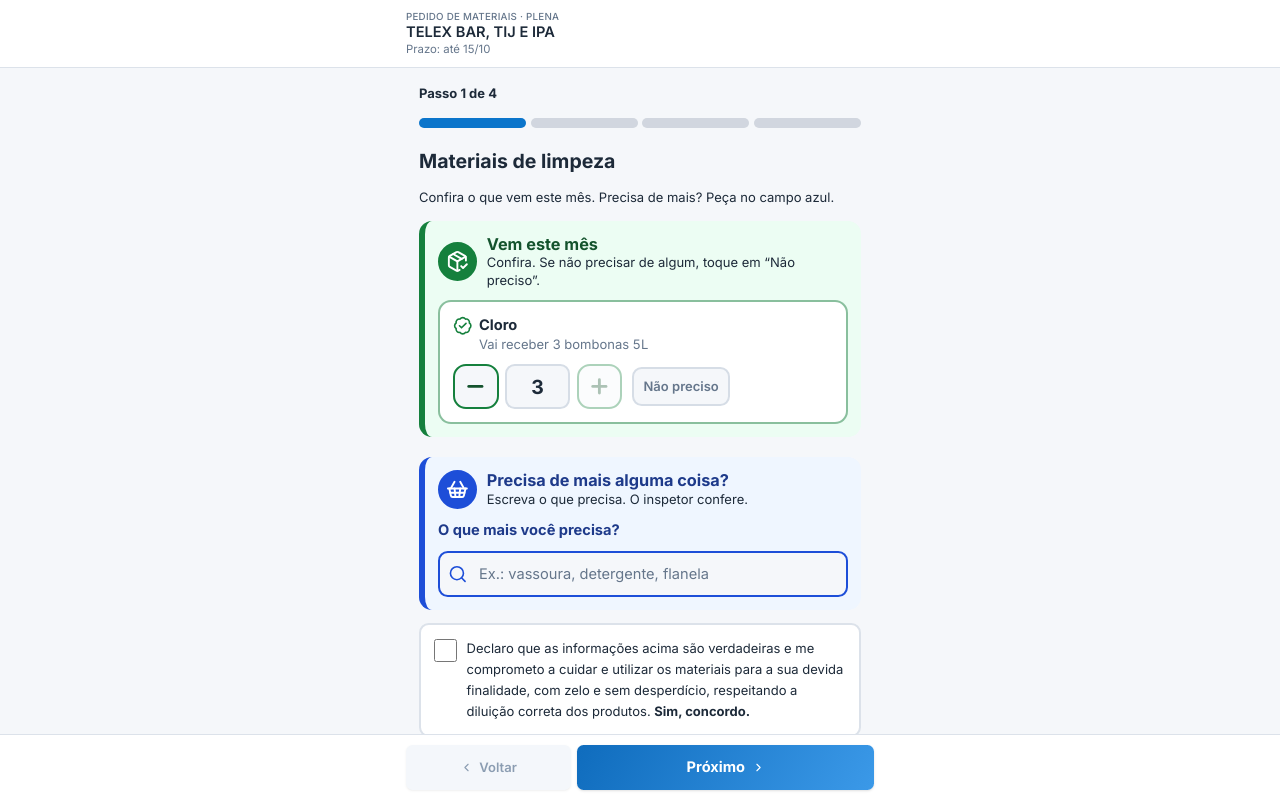
PedidoLiderPage (tela pública do líder) › kit do mês: o + não passa do kit e "Não preciso este mês" zera sem pedir motivo
Check: the heading "Vem este mês" is shown, box left=487, top=234, right=598, bottom=254
Check: the button named "Aumentar Cloro" is disabled, box left=576, top=364, right=622, bottom=410
Click the button named "Diminuir Cloro". click: click(476, 387)
box: left=453, top=364, right=498, bottom=410
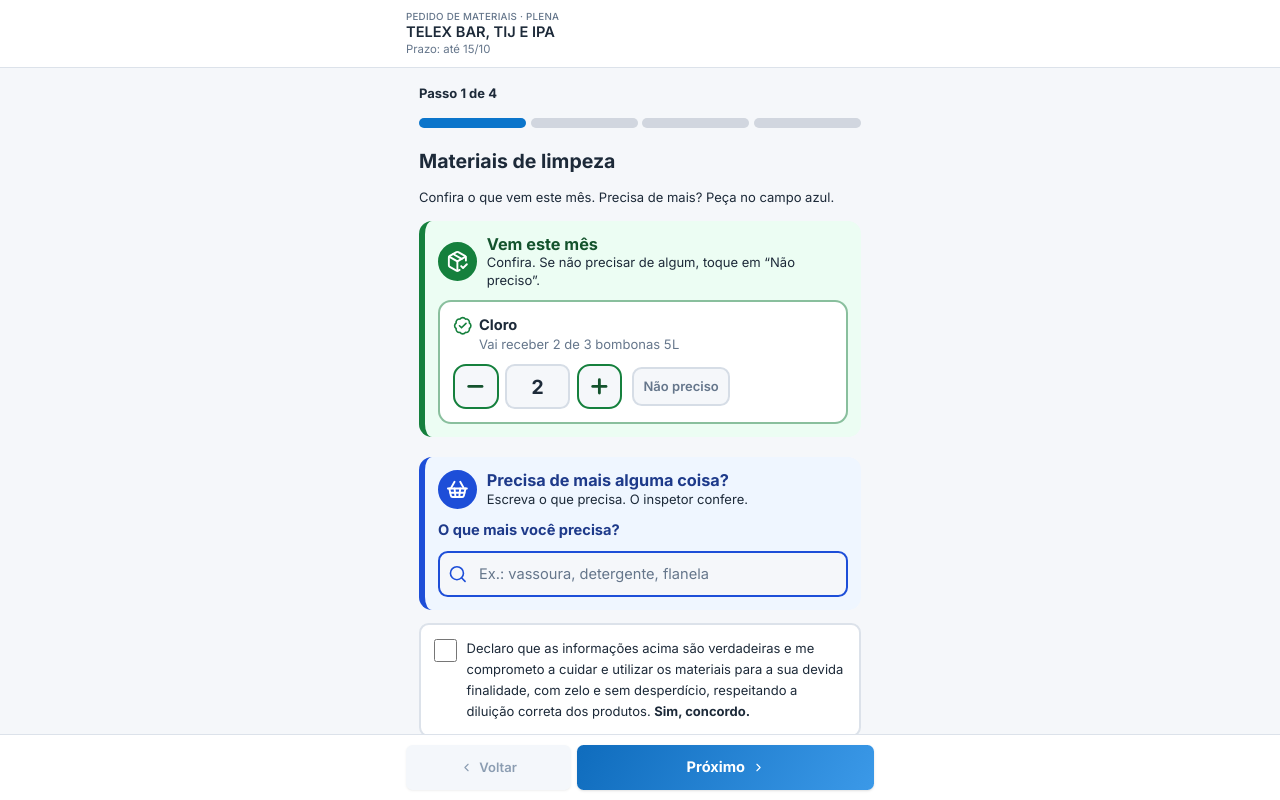
Check: the field named "Quantidade de Cloro" holds "2", box left=505, top=364, right=570, bottom=410
Check: the text "Vai receber 2 de 3 bombonas 5L" is shown, box left=479, top=335, right=679, bottom=354
Click the button "Não preciso". click: click(681, 387)
box: left=632, top=367, right=730, bottom=406
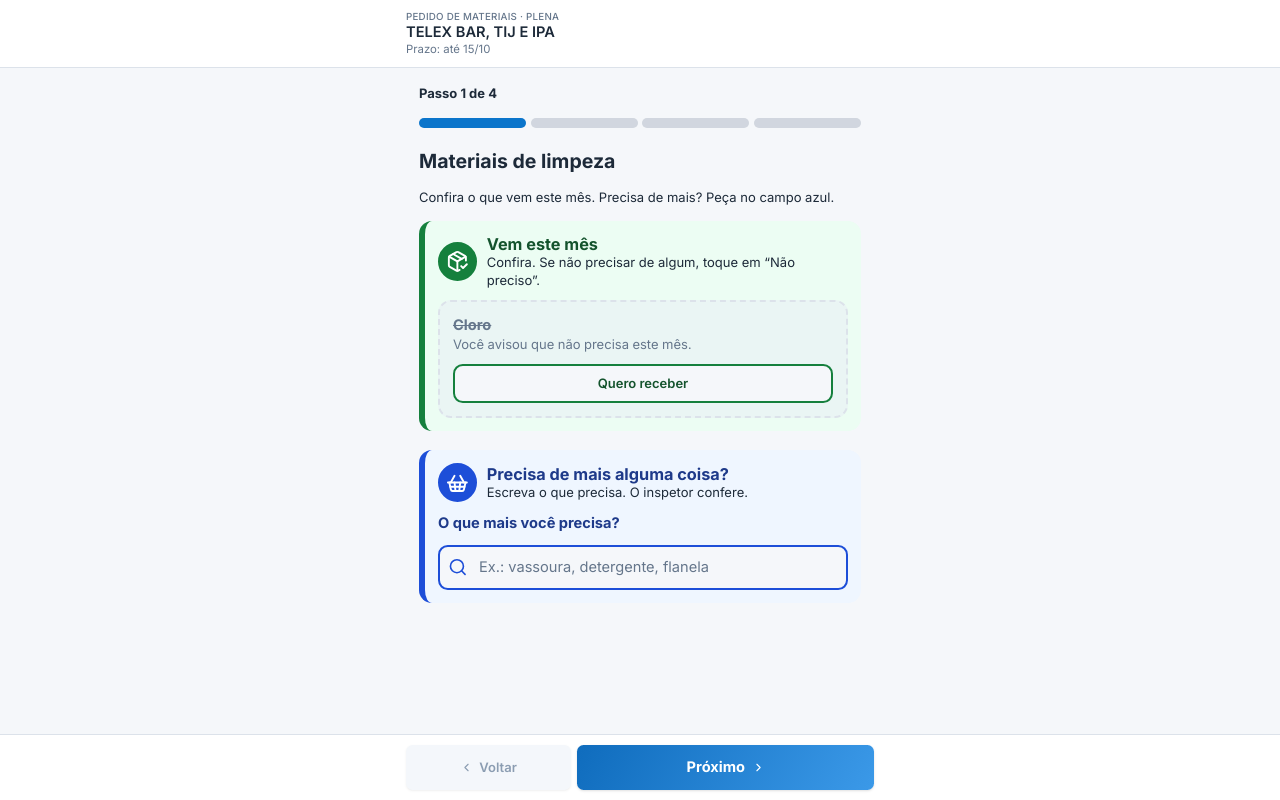
Check: the text "Você avisou que não precisa este mês." is shown, box left=453, top=335, right=691, bottom=354
Click the button "Quero receber". click: click(643, 384)
box: left=453, top=364, right=833, bottom=403
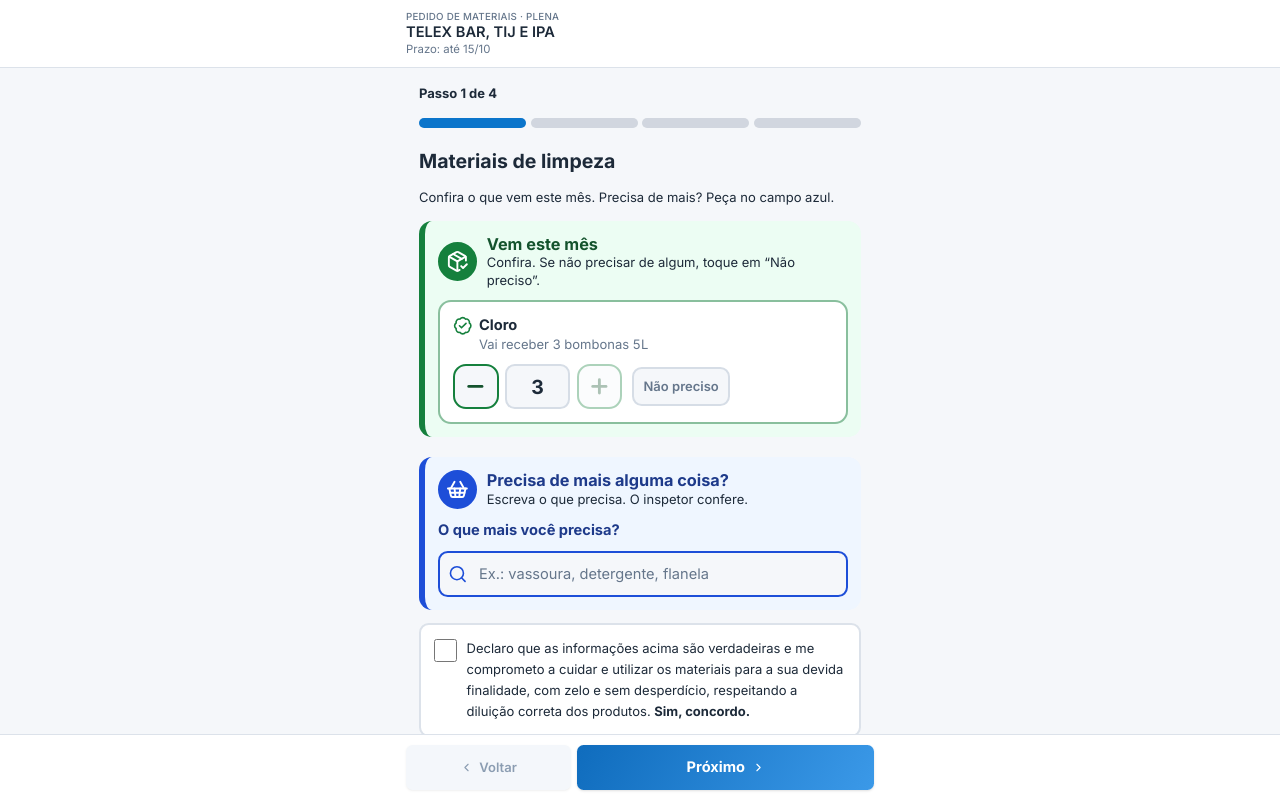
Check: the field named "Quantidade de Cloro" holds "3", box left=505, top=364, right=570, bottom=410
